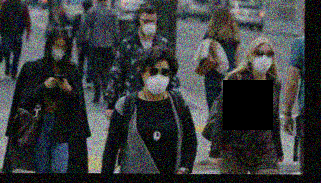with_mask: (144, 65, 172, 96), (139, 17, 158, 38), (50, 42, 67, 62)
